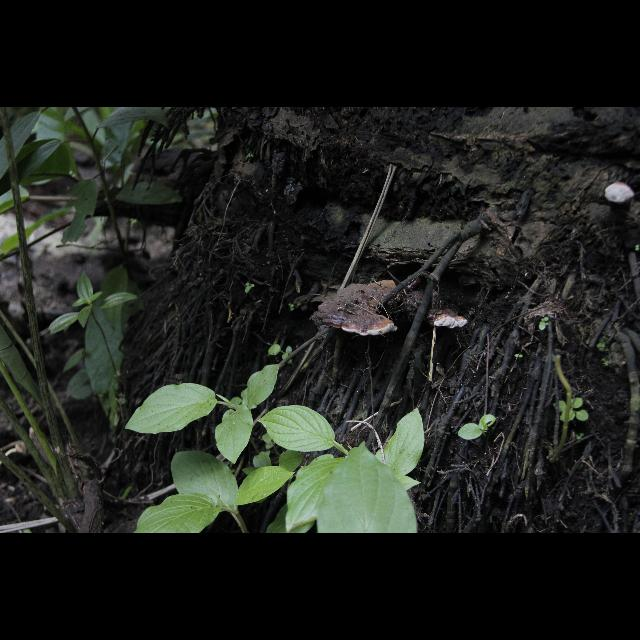ganoderma: (317, 279, 400, 337), (429, 306, 471, 330)
primordium: (605, 183, 635, 205)
